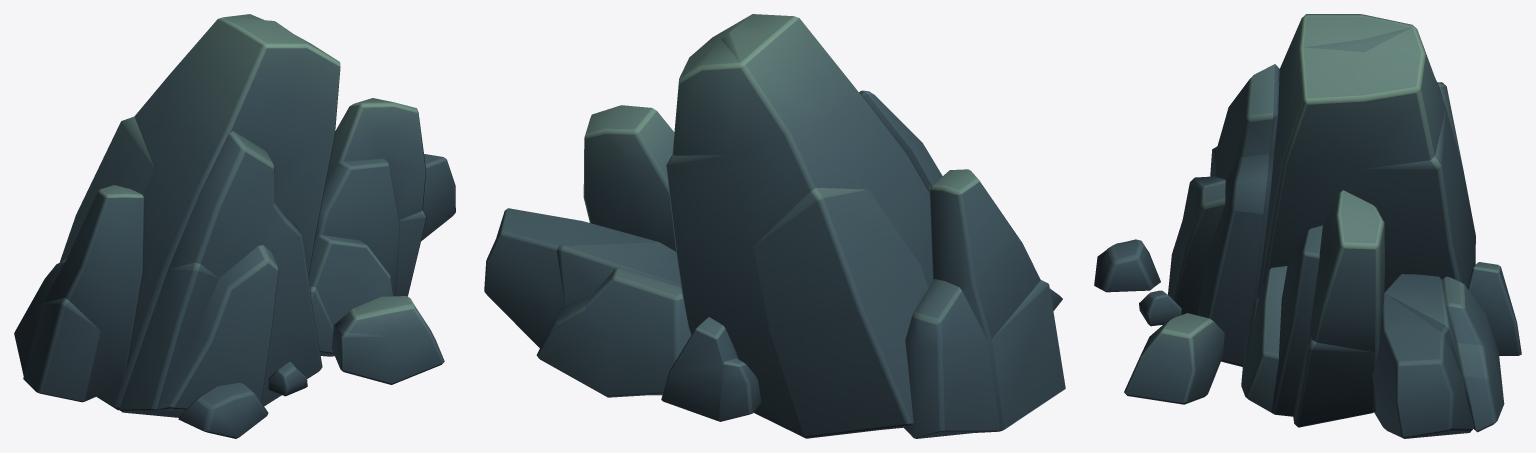
File: rock_arrangement_large.fbx
3 renders of one model, left to right at view 1: azimuth 30°, elevation 25°; view 2: azimuth 150°, elevation 25°; view 3: azimuth 270°, elevation 25°, orthographic. The views are drawn at different scales.
Visible parts, largest first — view 1: rock_arrangement_large; view 2: rock_arrangement_large; view 3: rock_arrangement_large.
Part boxes in pixels (box(x1,y1,x2,y2)): rock_arrangement_large: box(14, 14, 455, 438); rock_arrangement_large: box(484, 14, 1065, 438); rock_arrangement_large: box(1094, 14, 1521, 438).
Bounding box in the file's own units: 1599 × 1077 × 1107.
